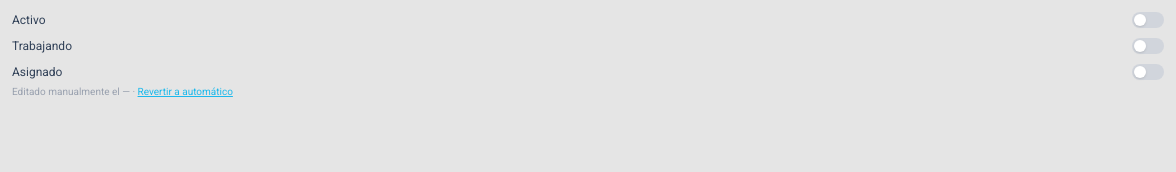
Scenario: IndicatorSwitches › shows a visible error when reverting fails
Click the button "Revertir a automático" at [185, 92], box [138,84,233,99]
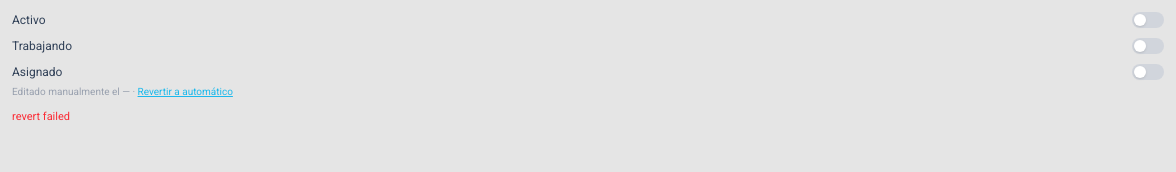
Expected: the text "revert failed" is shown, [12,110,70,123]
